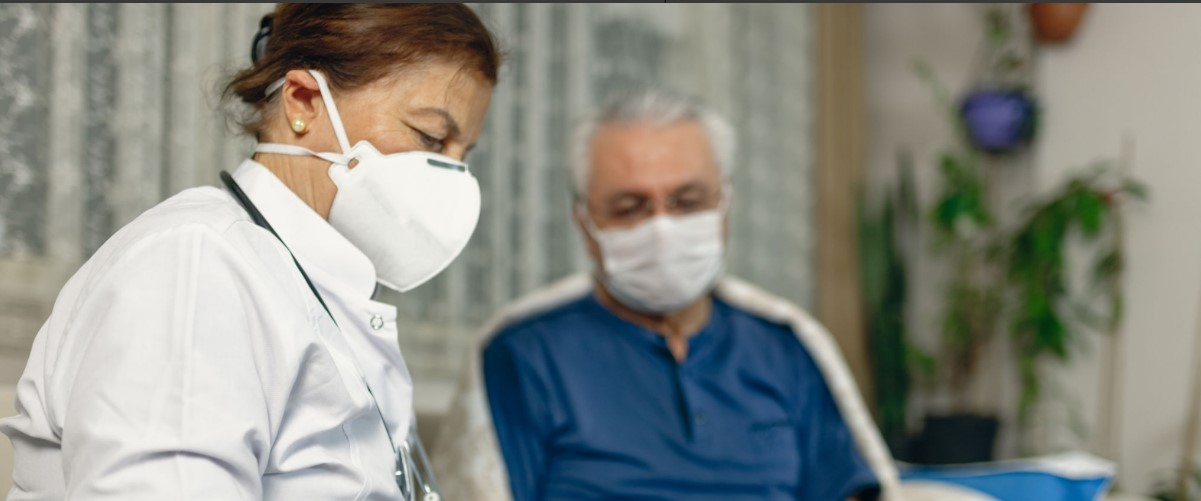face_with_mask: (254, 1, 491, 294), (570, 87, 734, 315)
